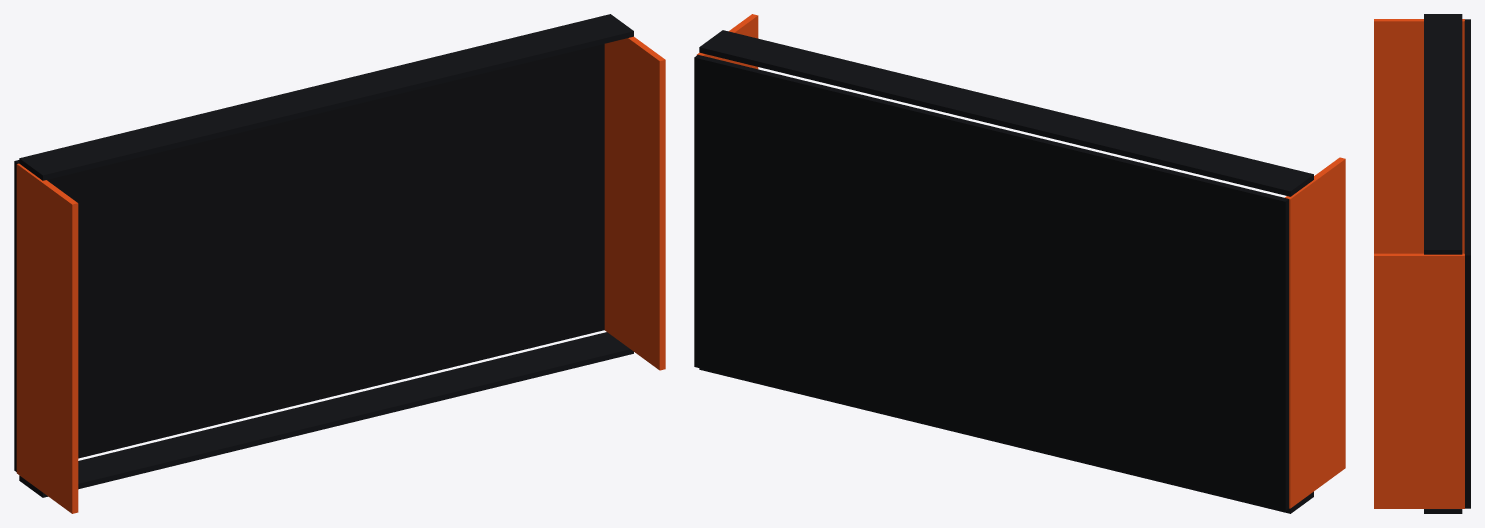
File: noorabad_rooftop_boundary.obj
3 renders of one model, left to right at view 1: azimuth 30°, elevation 25°; view 2: azimuth 150°, elevation 25°; view 3: azimuth 270°, elevation 25°, orthographic. The views are drawn at different scales.
Visible parts, largest first — view 1: floor, left_wall, right_wall, front_rail, back_rail; view 2: floor, left_wall, front_rail, back_rail; view 3: right_wall, left_wall, front_rail, floor, back_rail.
Boxes of the visible parts, bbox=[...] form: floor: bbox=[14, 44, 604, 471]; left_wall: bbox=[16, 163, 78, 513]; right_wall: bbox=[604, 36, 665, 370]; front_rail: bbox=[19, 14, 633, 180]; back_rail: bbox=[19, 332, 633, 497]; floor: bbox=[694, 54, 1288, 510]; left_wall: bbox=[1285, 157, 1345, 508]; front_rail: bbox=[699, 30, 1313, 196]; back_rail: bbox=[699, 368, 1313, 513]; right_wall: bbox=[1374, 253, 1464, 508]; left_wall: bbox=[1374, 19, 1464, 253]; front_rail: bbox=[1424, 14, 1462, 254]; floor: bbox=[1464, 19, 1470, 508]; back_rail: bbox=[1424, 509, 1462, 513].
Bounding box in the file's own units: 16.06 × 8.34 × 2.77.
